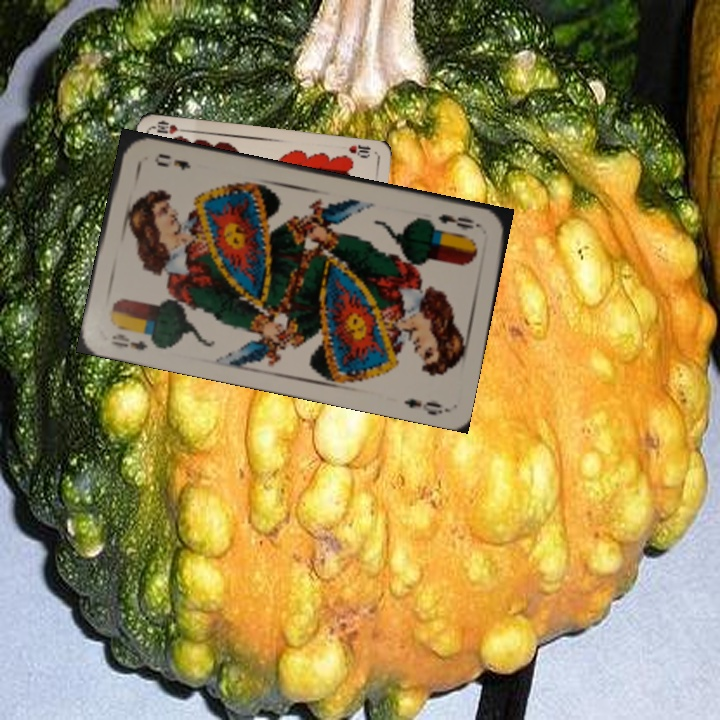EO: (107, 329, 162, 353), (434, 209, 484, 232)
H10: (345, 141, 373, 160)
